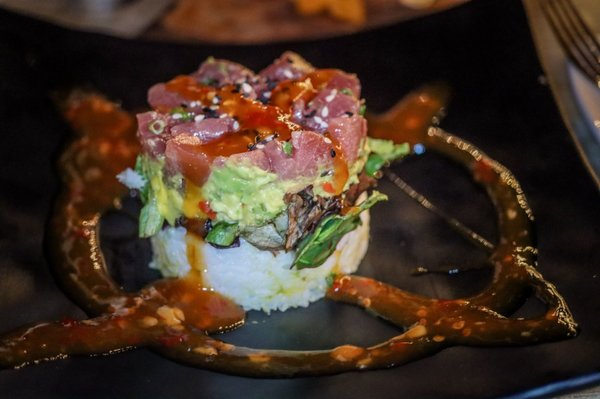burger: (522, 2, 600, 203)
soup: (113, 52, 423, 324)
